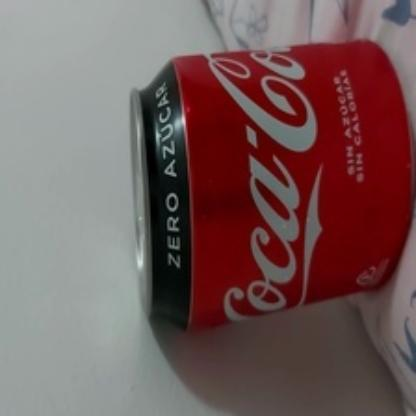Can: (130, 40, 416, 334)
